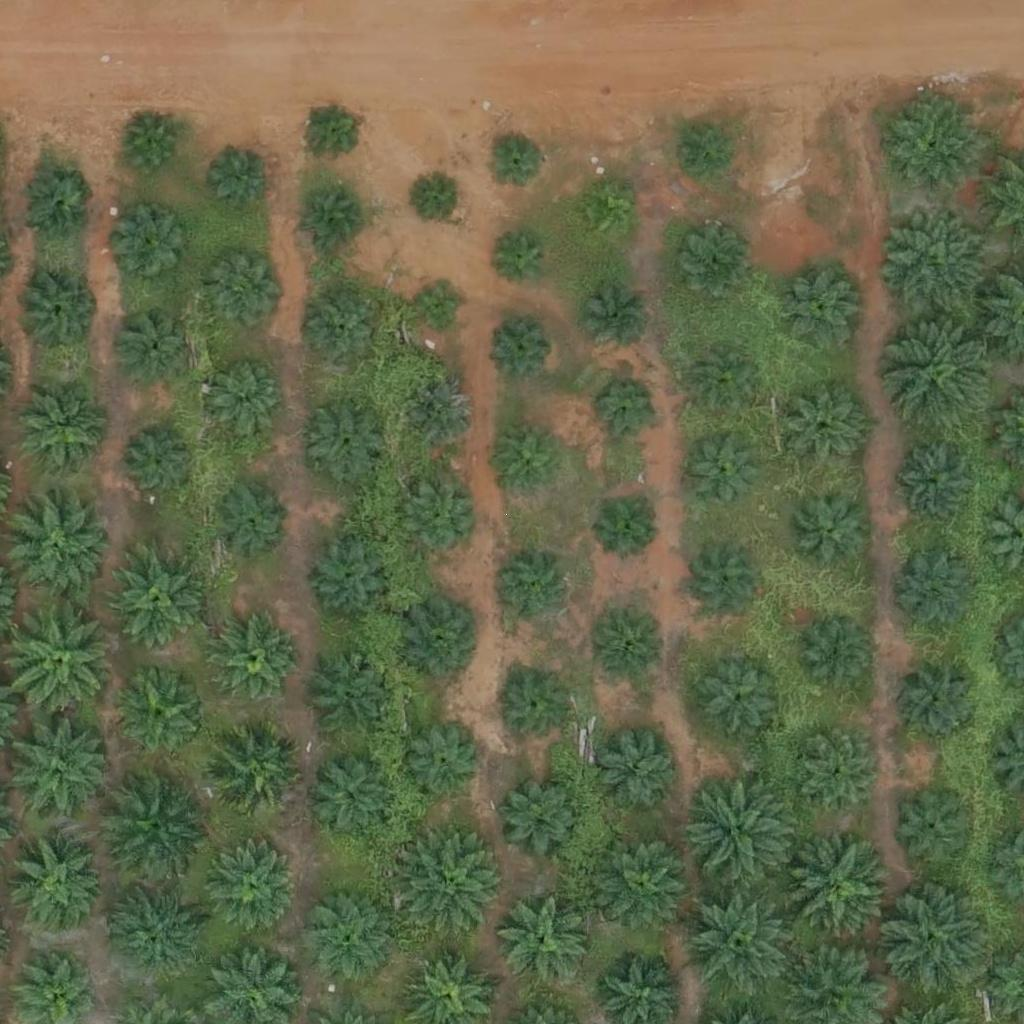Kelapa_Sawit: (883, 209, 996, 323), (889, 316, 1002, 430), (680, 774, 793, 887), (680, 887, 793, 1000), (98, 771, 210, 885), (877, 881, 989, 994), (778, 834, 890, 947), (884, 96, 984, 197), (595, 834, 695, 935), (402, 831, 502, 932), (6, 831, 106, 932), (9, 498, 109, 598), (103, 549, 203, 649), (296, 889, 396, 989), (206, 725, 306, 825), (200, 840, 300, 940), (11, 717, 111, 817), (699, 656, 787, 745), (303, 396, 391, 484), (398, 596, 486, 684), (18, 388, 106, 476), (307, 536, 395, 624), (795, 728, 883, 816), (495, 773, 583, 861), (499, 899, 587, 987), (116, 673, 204, 761), (110, 890, 198, 978), (590, 726, 677, 815), (13, 267, 100, 355), (899, 656, 986, 744), (212, 617, 299, 705), (307, 655, 394, 743), (309, 753, 396, 841), (207, 358, 282, 434), (117, 306, 192, 382), (122, 425, 197, 501), (211, 481, 286, 557), (690, 339, 765, 415), (674, 229, 749, 305), (788, 390, 863, 466), (17, 167, 92, 243), (783, 270, 858, 346), (903, 443, 978, 519), (901, 557, 976, 633), (115, 209, 190, 284), (208, 251, 283, 326), (306, 295, 381, 370), (500, 671, 575, 746), (488, 555, 563, 630), (689, 546, 764, 621), (794, 618, 869, 693), (796, 490, 871, 565), (690, 430, 765, 505), (398, 481, 473, 556), (405, 380, 480, 455), (577, 285, 652, 360), (591, 375, 666, 450), (589, 489, 664, 564), (592, 613, 667, 688), (896, 792, 971, 867), (406, 729, 481, 804), (300, 99, 363, 162), (301, 188, 364, 251), (498, 428, 561, 491), (575, 183, 638, 246), (667, 121, 730, 184), (120, 115, 182, 178), (210, 148, 272, 211), (485, 130, 547, 193), (489, 230, 551, 293), (489, 317, 551, 380), (415, 174, 465, 225), (414, 280, 464, 331)
